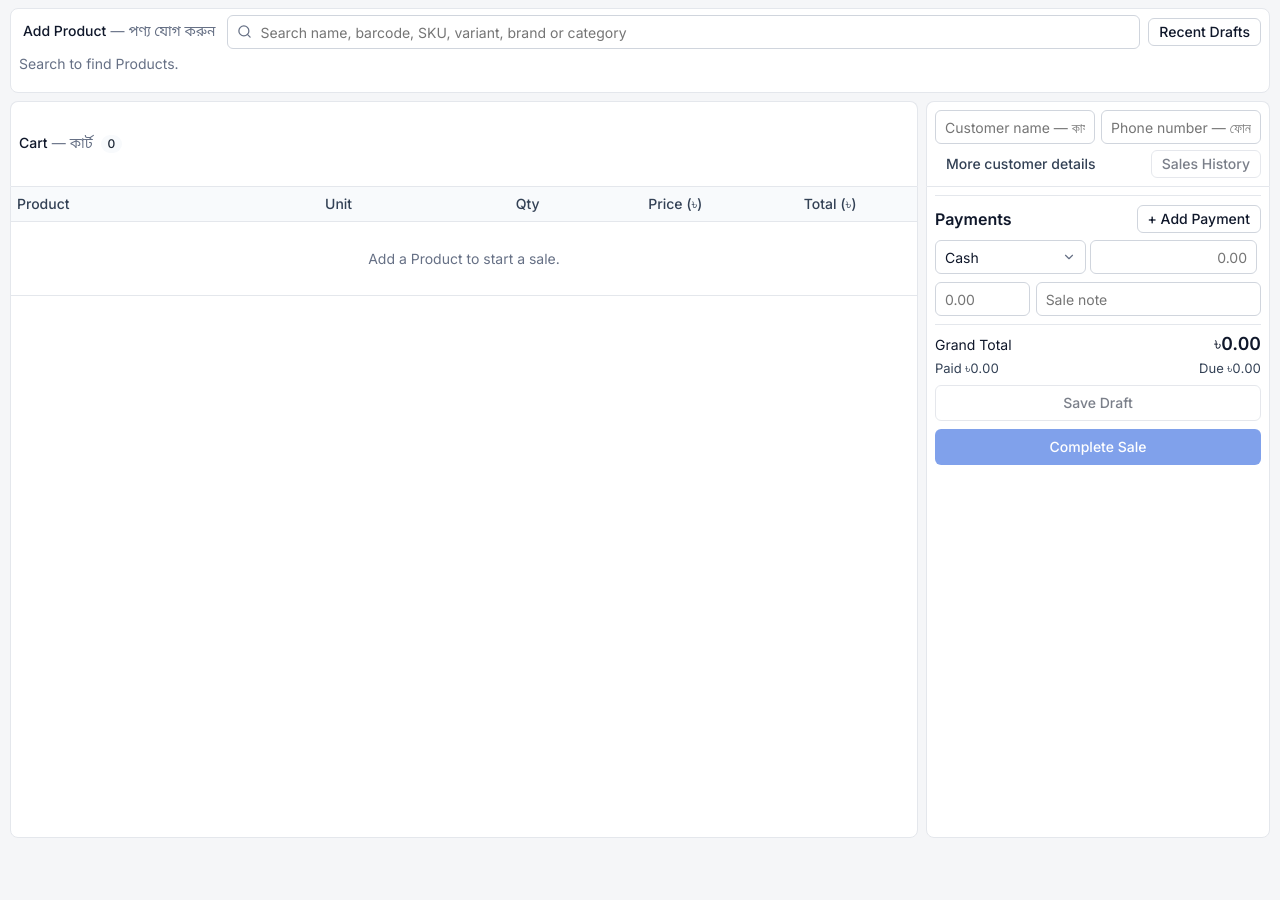
PosPage lot pricing › re-quotes when quantity changes and submits only active manual overrides
Step 1. Type "SWR" into the field named "Search products" → (684, 32), box x1=228 y1=15 x2=1140 y2=49
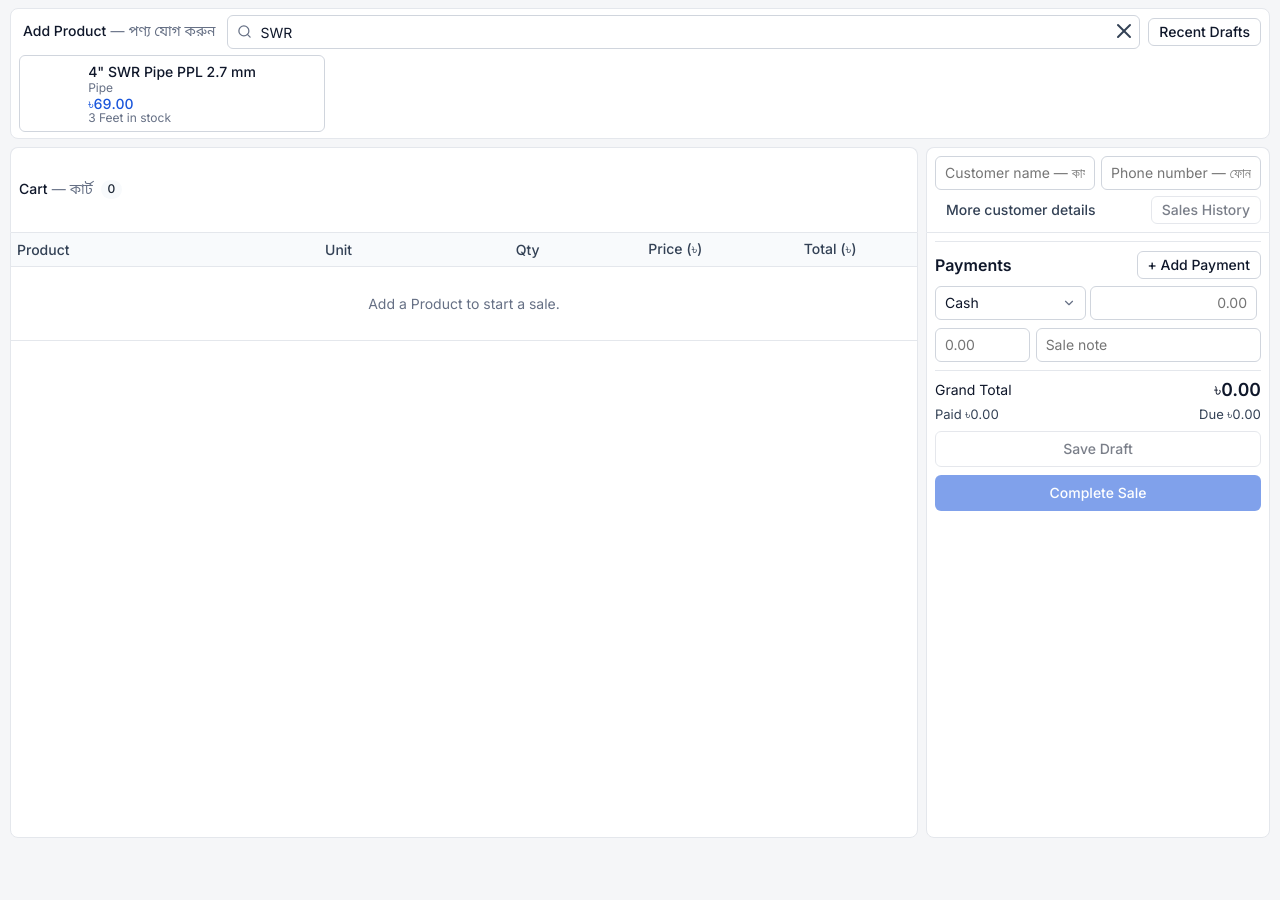
Step 2. Click the button "4\" SWR Pipe PPL 2.7 mm Pipe ৳69.00 3 Feet in stock" → (172, 72), box x1=19 y1=55 x2=325 y2=132
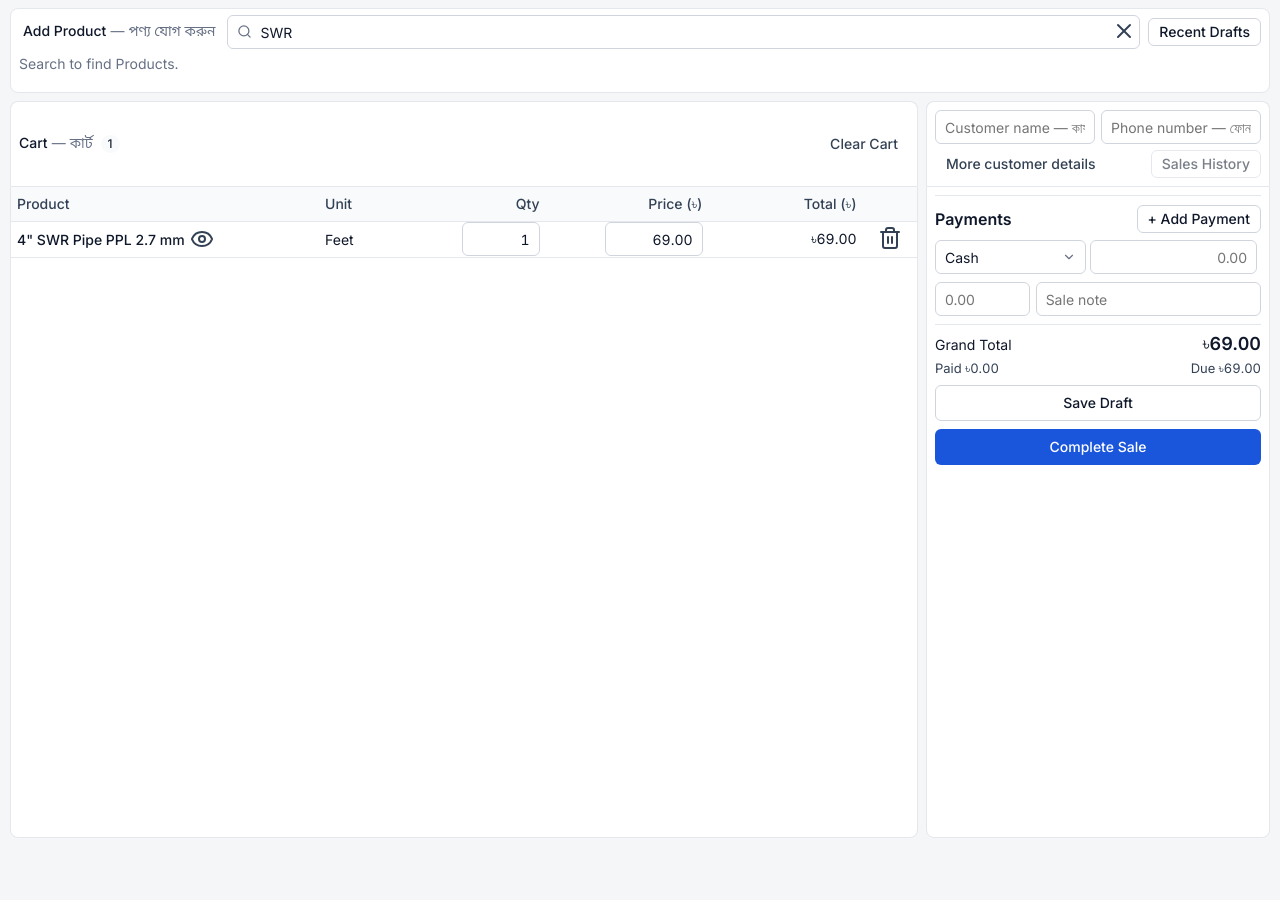
Step 3. Replace the text in the field named "Quantity for 4\" SWR Pipe PPL 2.7 mm" with "2" → (500, 239), box x1=462 y1=222 x2=540 y2=256
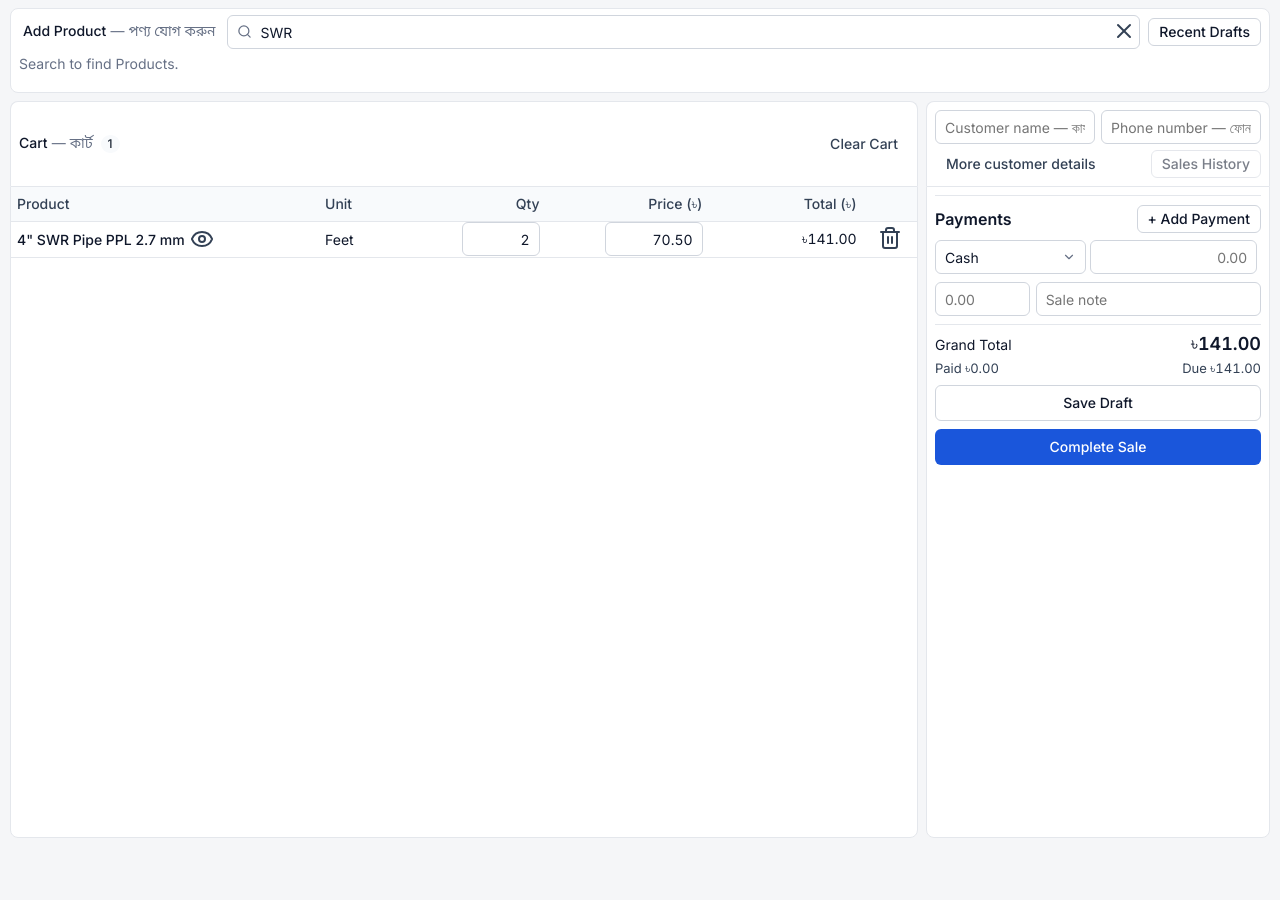
Result: the field named "Selling price for 4\" SWR Pipe PPL 2.7 mm" holds "70.50"
Step 4. Replace the text in the field named "Selling price for 4\" SWR Pipe PPL 2.7 mm" with "75.00" → (654, 239), box x1=605 y1=222 x2=703 y2=256
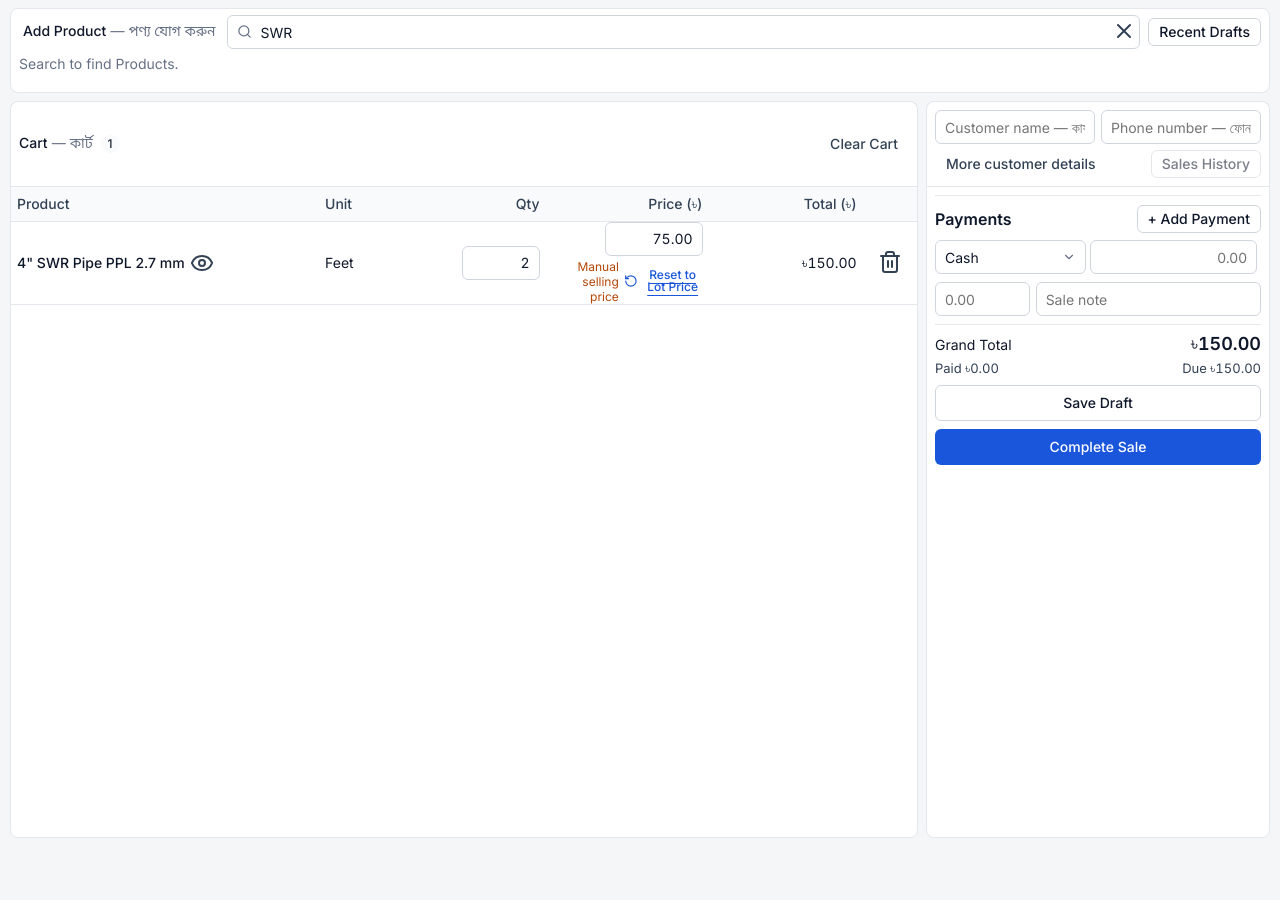
Result: the text "Manual selling price" is shown at x1=577 y1=258 x2=619 y2=304
Step 5. Click the button "Reset to Lot Price" → (663, 281), box x1=623 y1=268 x2=703 y2=294
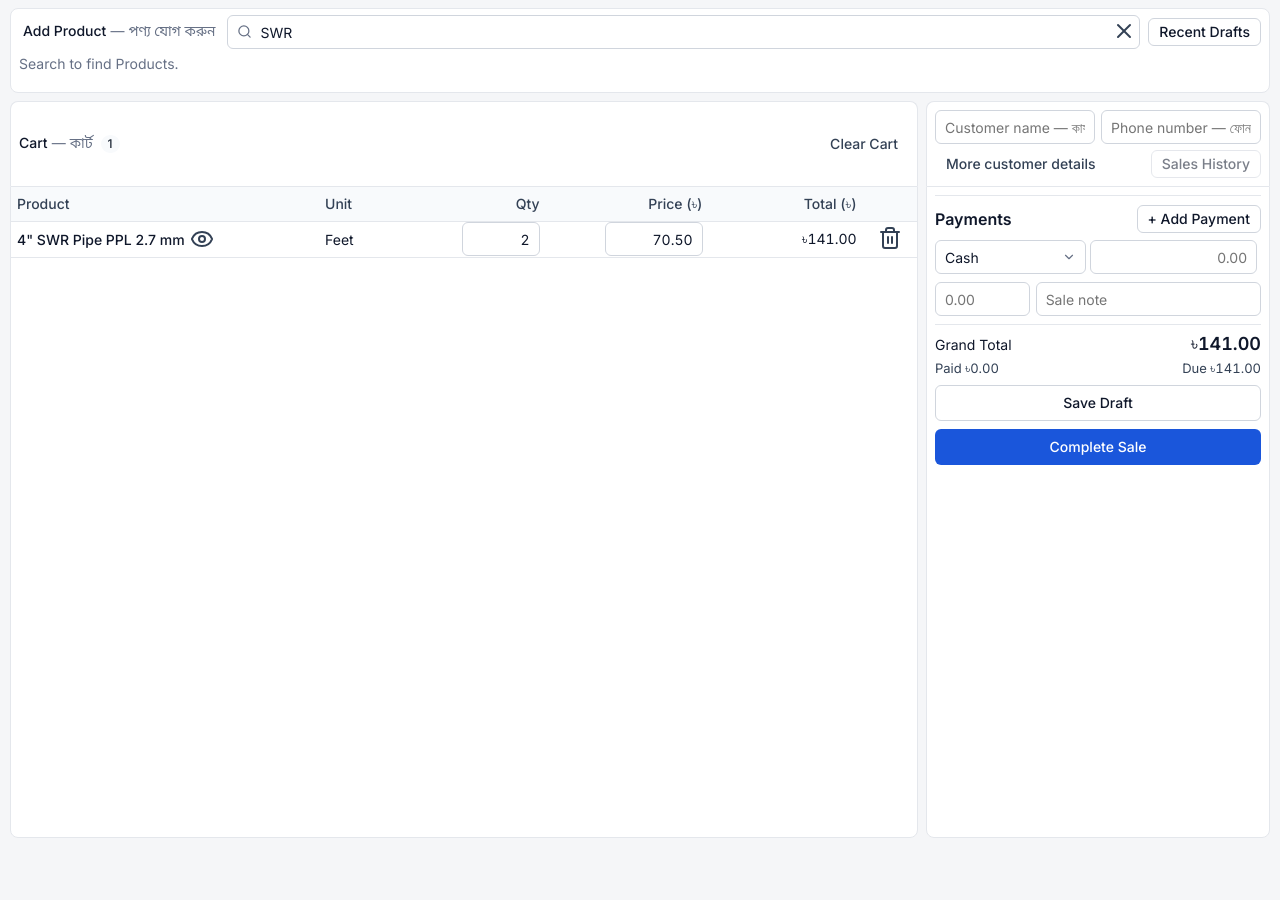
Step 6. Click the button "Complete Sale" → (1098, 447), box x1=935 y1=429 x2=1261 y2=465
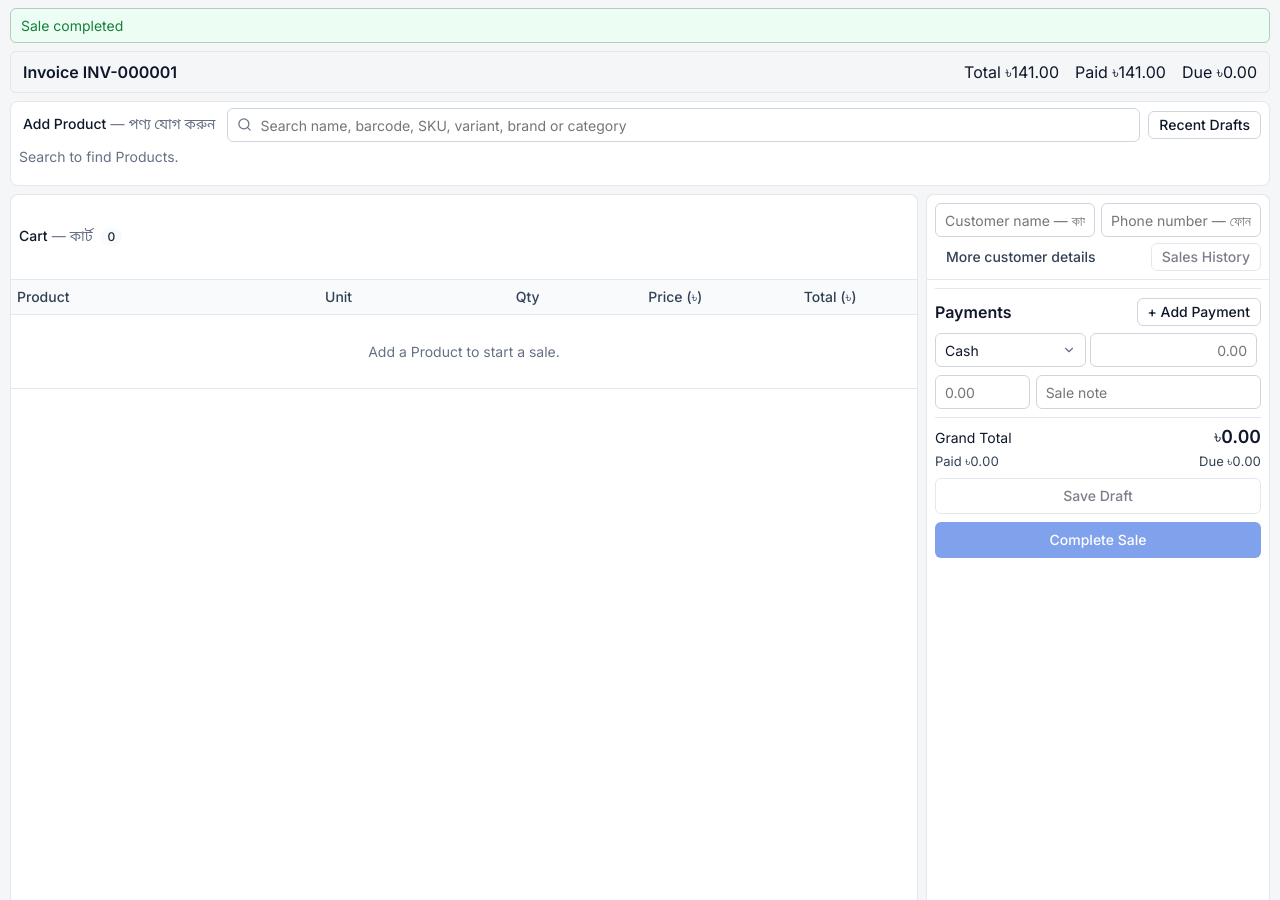
Result: the text "Sale completed" is shown at x1=10 y1=8 x2=1270 y2=43
